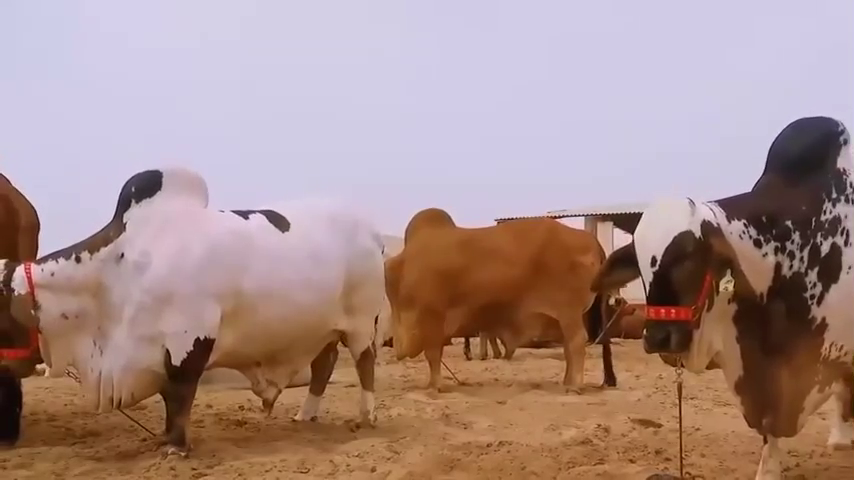bo: (7, 151, 392, 464), (579, 101, 849, 472), (365, 193, 613, 405)
